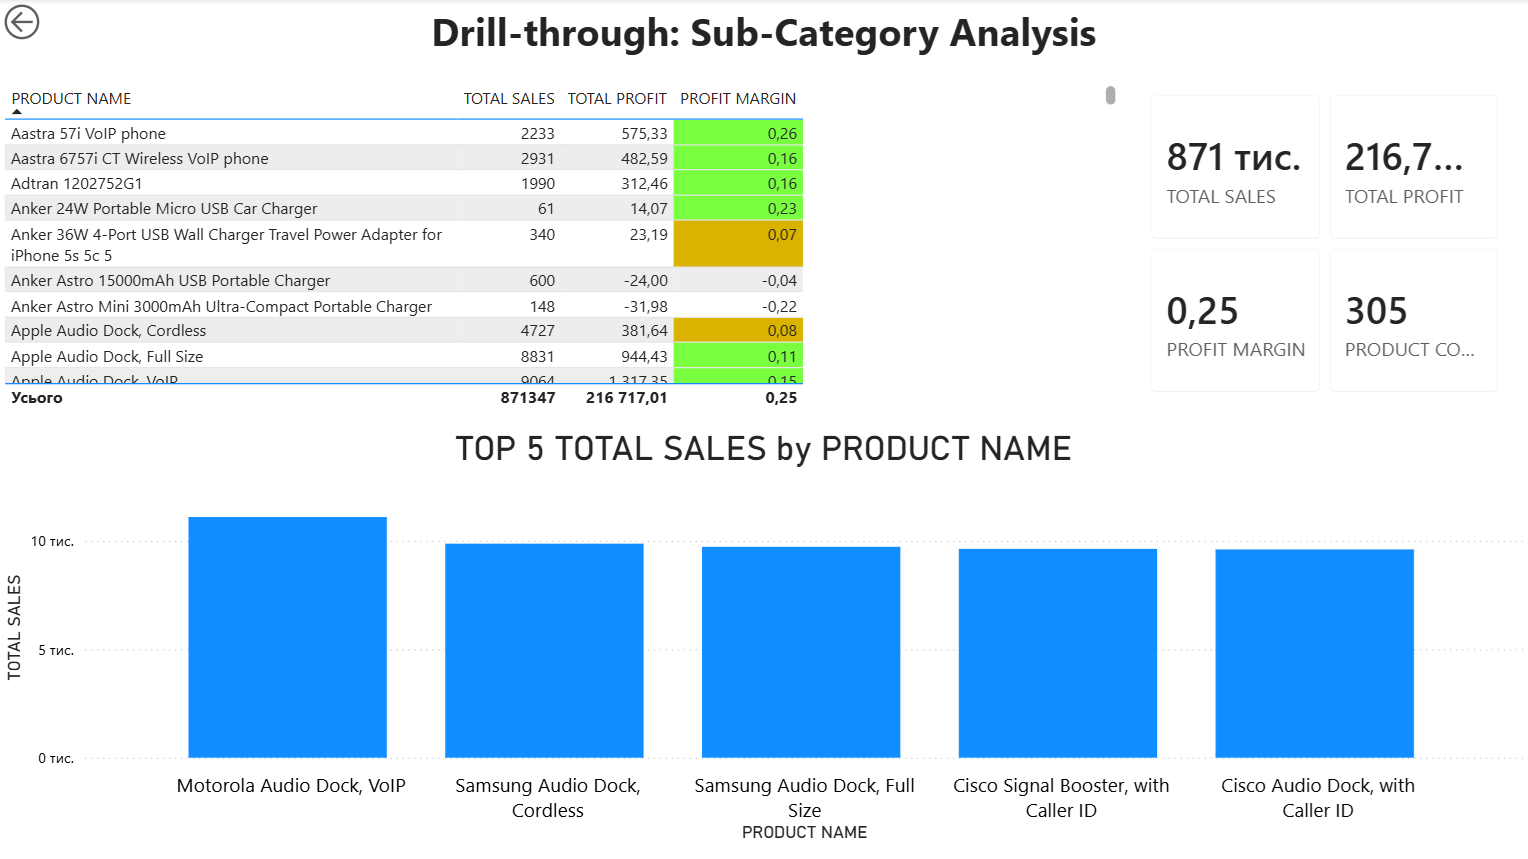

What the dashboard file says about the page in this screenshot:
{"tool":"powerbi","page":{"name":"Сторінка 2","canvas":[1280,720],"ordinal":1},"visuals":[{"type":"actionButton","box":[0,0,100,40],"z":0},{"type":"tableEx","fields":{"Values":["df.product_name","Sum(df.sales)","Sum(df.profit)","df.PROFIT MARGIN"]},"box":[0,67.2,938.7,280],"z":0,"group":"g1"},{"type":"textbox","box":[0,0,1279.4,65.4],"z":1000},{"type":"actionButton","box":[0,0,100,40],"z":2000},{"type":"columnChart","title":"TOP 5 TOTAL SALES by PRODUCT NAME","fields":{"Category":["df.product_name"],"Y":["Sum(df.sales)"]},"box":[0,360,1279,350],"z":3000},{"type":"group","id":"g1","title":"Група 1","box":[0,67.2,938.7,280],"z":4000},{"type":"cardVisual","fields":{"Data":["Sum(df.sales)","Sum(df.profit)","df.PROFIT MARGIN","df.PRODUCT COUNT"]},"box":[946.2,64.1,325.1,282.8],"z":6000}]}

Visuals, with their boxes in screenshot pixels (x1, y1, x2, y2), scaled from the page's 1280x720 canvas onto the 1528x859 screenshot:
actionButton: (0,0,119,48)
tableEx - df.product_name x Sum(df.sales): (0,80,1121,414)
textbox: (0,0,1527,78)
actionButton: (0,0,119,48)
"TOP 5 TOTAL SALES by PRODUCT NAME" columnChart: (0,430,1527,847)
"Група 1" group: (0,80,1121,414)
cardVisual - Sum(df.sales) x Sum(df.profit): (1130,76,1518,414)
